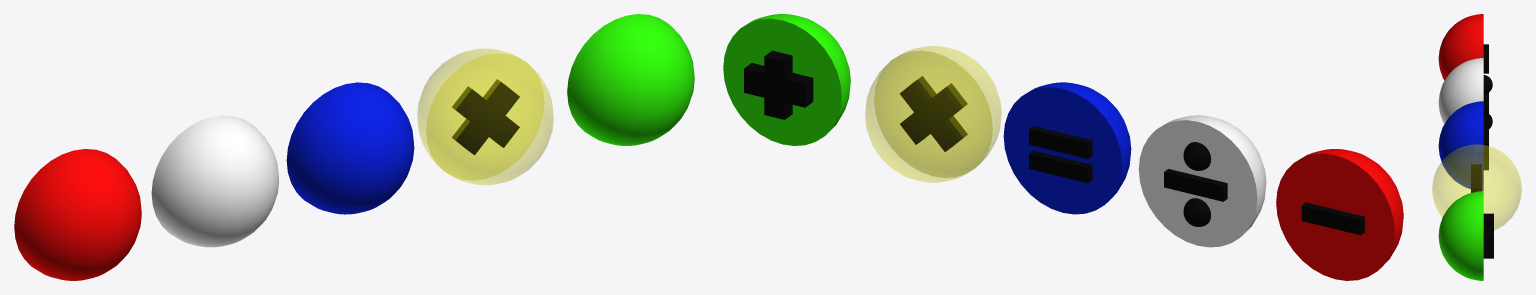
Rendered from bolaoperator2.fbx.
The picture shows the model from 3 angles, left to right: view 1: azimuth 30°, elevation 25°; view 2: azimuth 150°, elevation 25°; view 3: azimuth 270°, elevation 25°; orthographic projection. The views are drawn at different scales.
Parts seen in each view (by area): view 1: Sphere.002, Sphere.003, Sphere, Sphere.006, Sphere.008, Sphere.001, Cube.002; view 2: Sphere.001, Sphere.006, Sphere.002, Sphere.003, Sphere, Sphere.008, Cube.002, Cube.001, Cube, Cube.004, Cube.003, Cube.005 (+2 smaller); view 3: Sphere, Sphere.002, Sphere.001, Sphere.008, Sphere.006, Sphere.003, Cube.001, Cube.002, Cube.004, Cube, Sphere.004, Cube.005 (+2 smaller).
Boxes of the visible parts, <box> form: Sphere.002: <box>286,82,414,214</box>; Sphere.003: <box>151,115,279,247</box>; Sphere: <box>567,14,694,145</box>; Sphere.006: <box>14,149,141,280</box>; Sphere.008: <box>426,53,553,184</box>; Sphere.001: <box>417,49,544,180</box>; Cube.002: <box>452,79,519,155</box>; Sphere.001: <box>865,51,992,182</box>; Sphere.006: <box>1276,149,1403,280</box>; Sphere.002: <box>1003,82,1131,214</box>; Sphere.003: <box>1138,115,1266,247</box>; Sphere: <box>723,14,850,145</box>; Sphere.008: <box>874,46,1001,177</box>; Cube.002: <box>899,76,967,151</box>; Cube.001: <box>744,50,813,119</box>; Cube: <box>1029,126,1092,158</box>; Cube.004: <box>1301,202,1364,235</box>; Cube.003: <box>1029,150,1092,183</box>; Cube.005: <box>1164,169,1227,201</box>; Sphere: <box>1438,191,1483,280</box>; Sphere.002: <box>1438,101,1483,190</box>; Sphere.001: <box>1477,144,1521,230</box>; Sphere.008: <box>1432,144,1476,217</box>; Sphere.006: <box>1438,14,1483,80</box>; Sphere.003: <box>1438,58,1483,124</box>; Cube.001: <box>1483,213,1493,258</box>; Cube.002: <box>1471,164,1481,192</box>; Cube.004: <box>1483,44,1488,73</box>; Cube: <box>1483,125,1488,154</box>; Sphere.004: <box>1483,75,1492,94</box>; Cube.005: <box>1483,93,1488,117</box>.
Size of the model in its own units: 1132 by 200 by 200.
